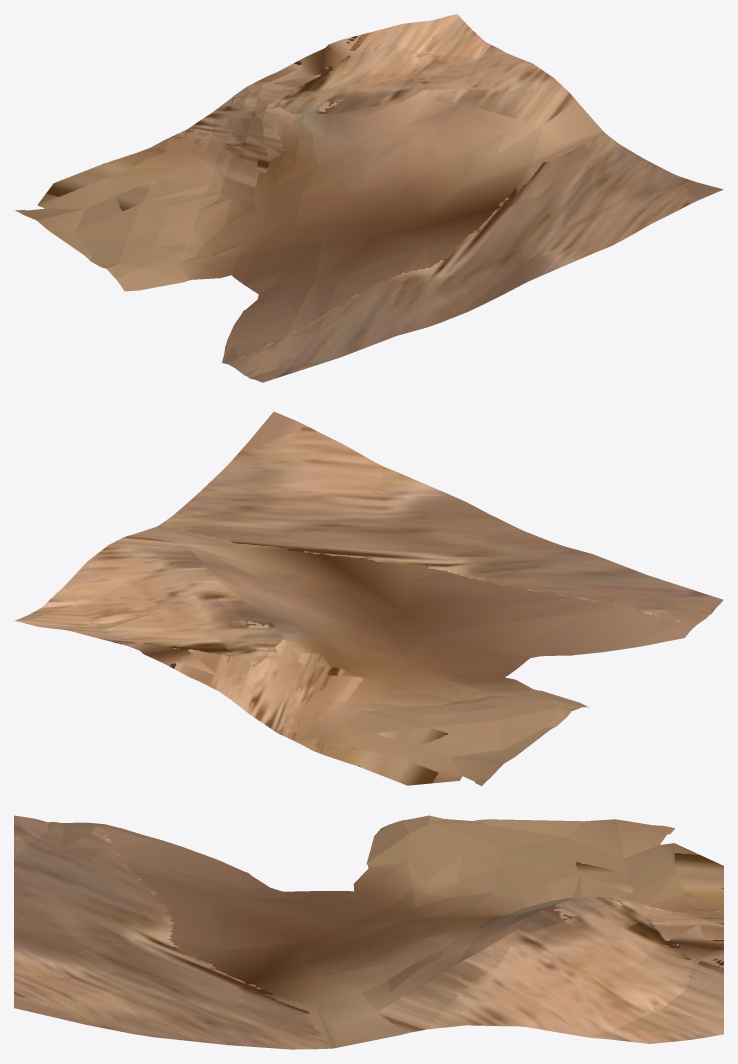
3 renders of one model, top to bottom at view 1: azimuth 30°, elevation 25°; view 2: azimuth 150°, elevation 25°; view 3: azimuth 270°, elevation 25°, orthographic. The views are drawn at different scales.
Size of the model in its own units: 1.04 by 0.195 by 1.04.
Materials: 2 (2 with a texture image).
